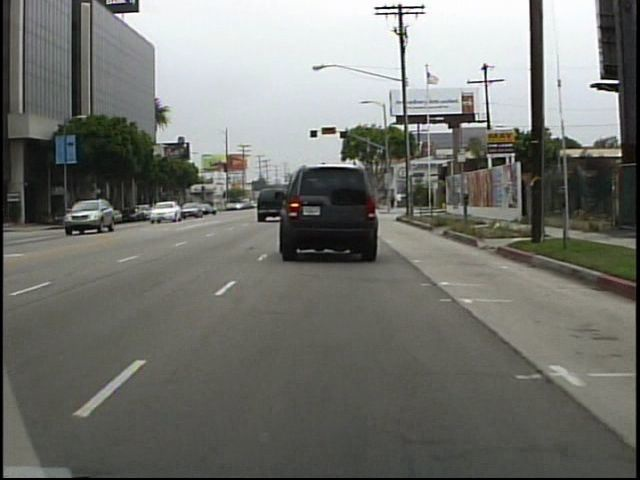person: (396, 187, 405, 212), (388, 189, 397, 210)
